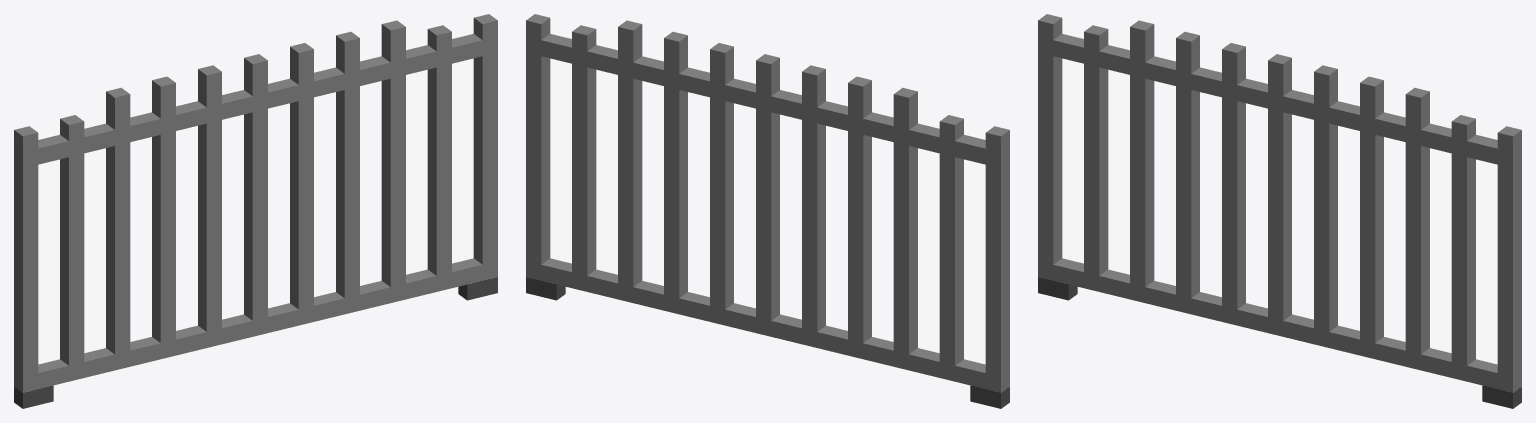
The model's file is obj_fence3.fbx.
3 views of the same model, side by side, from view 1: azimuth 30°, elevation 25°; view 2: azimuth 150°, elevation 25°; view 3: azimuth 330°, elevation 25° (orthographic).
Visible parts, largest first — view 1: obj_fence3; view 2: obj_fence3; view 3: obj_fence3.
Part boxes in pixels (box(x1,y1,x2,y2)): obj_fence3: box(14, 14, 497, 408); obj_fence3: box(526, 14, 1009, 408); obj_fence3: box(1038, 14, 1521, 408).
Size of the model in its own units: 3.1 by 0.1 by 1.8.
1 material, 1 textured.
